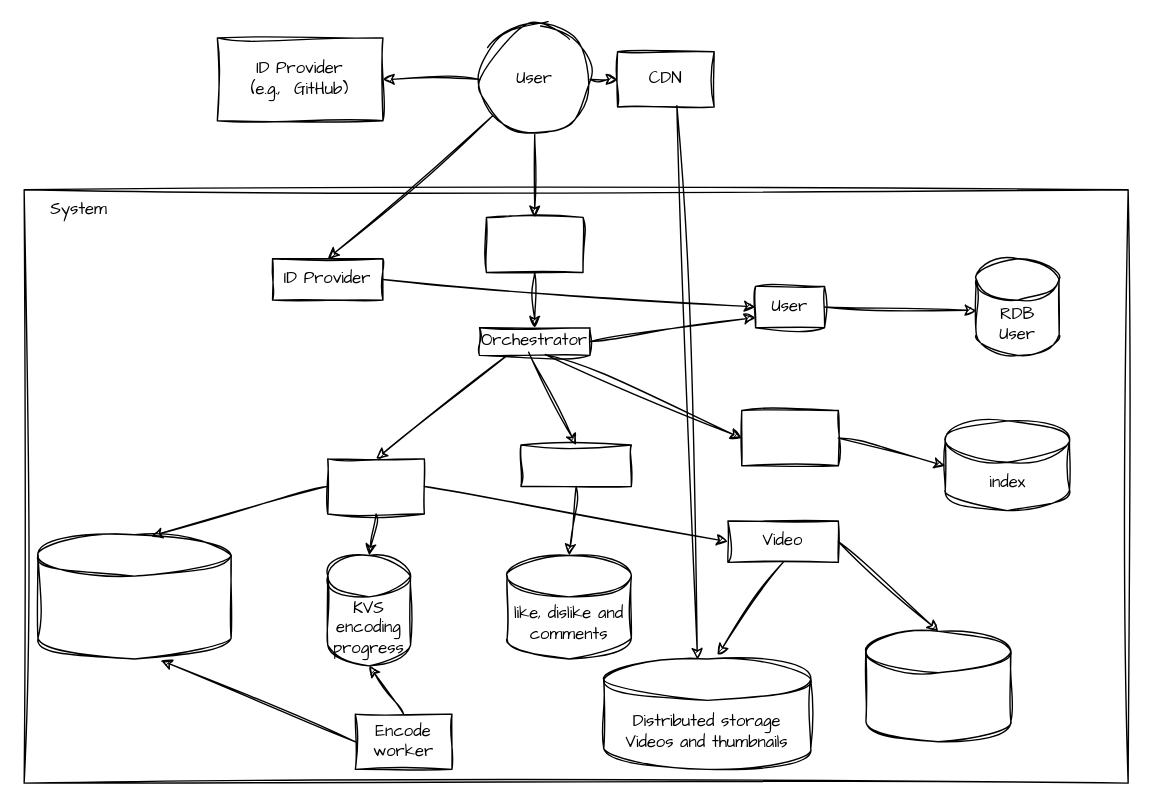
Image size: 1152x807. Some labels were removed from this diagram. The shapes that lost their labels are listed below. From the top down, each one's centre as x and y in pixels, then its label:
At (x=534, y=244): "Web server (UI)".
At (x=789, y=437): "Search".
At (x=375, y=485): "Video Encoder".
At (x=575, y=465): "Review".
At (x=134, y=596): "Distributed storage uploaded videos".
At (x=938, y=686): "RDS Video metadata".
